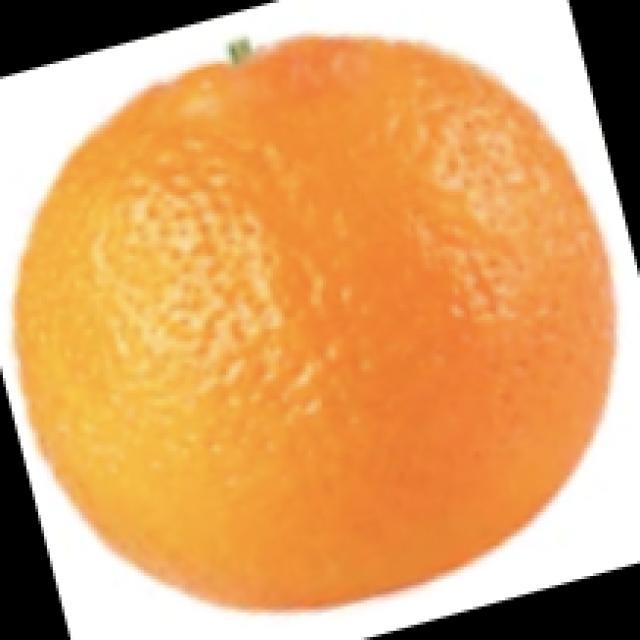matang: (16, 39, 613, 607)
